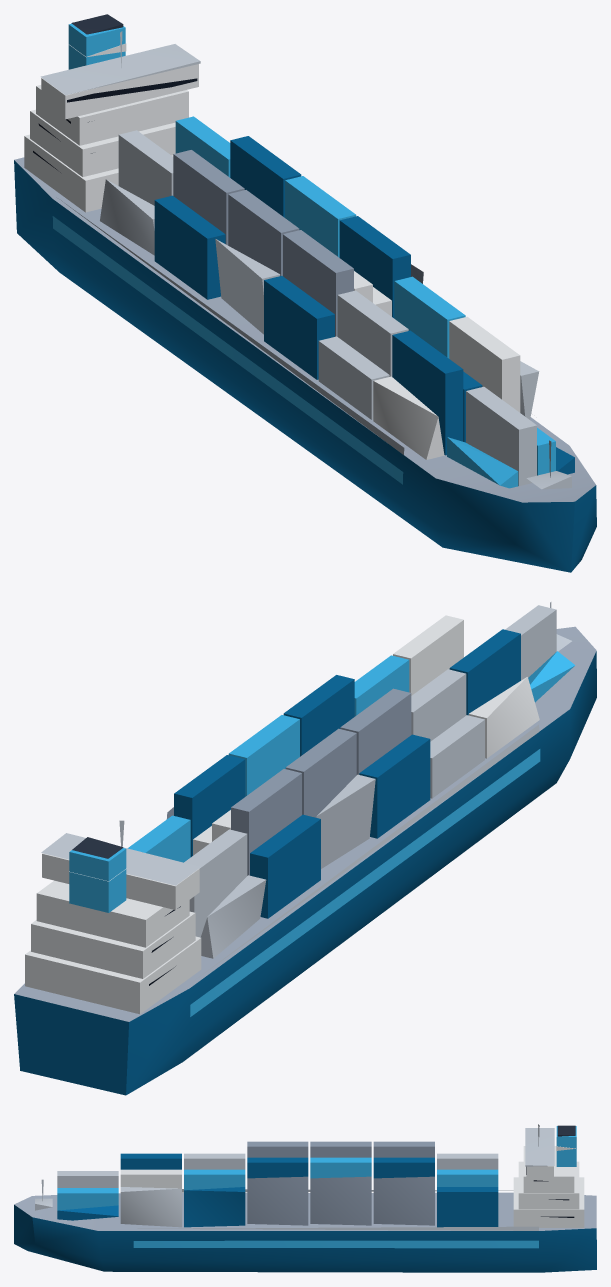
The model's file is container_ship.glb.
The picture shows the model from 3 angles, top to bottom: view 1: azimuth 30°, elevation 25°; view 2: azimuth 150°, elevation 25°; view 3: azimuth 270°, elevation 25°; orthographic projection. The views are drawn at different scales.
Visible parts, largest first — view 1: container_ship; view 2: container_ship; view 3: container_ship.
Part boxes in pixels (x1,y1,x2,y2): container_ship: [14, 14, 596, 572]; container_ship: [14, 602, 596, 1095]; container_ship: [14, 1124, 596, 1272].
Size of the model in its own units: 18.06 by 28.5 by 115.
Materials: 1 (1 with a texture image).
